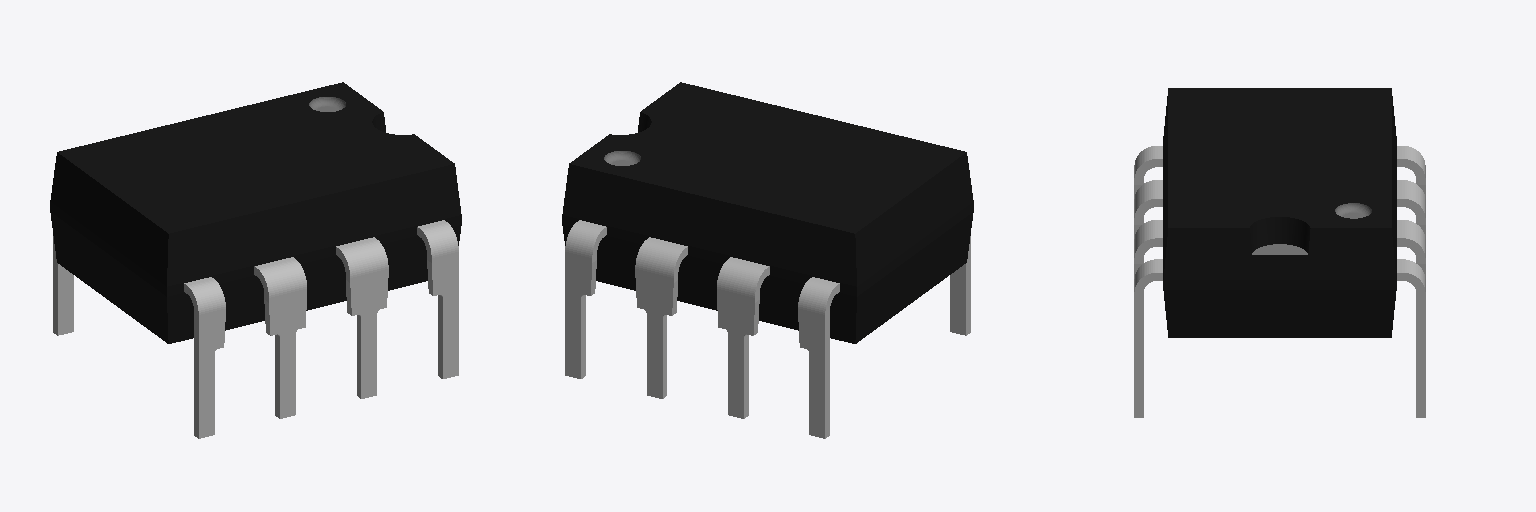
File: DIP8.obj
3 views of the same model, side by side, from view 1: azimuth 30°, elevation 25°; view 2: azimuth 150°, elevation 25°; view 3: azimuth 270°, elevation 25° (orthographic).
Visible parts, largest first — view 1: Solid1; view 2: Solid1; view 3: Solid1.
Boxes of the visible parts, x1=… form: Solid1: x1=50, y1=82, x2=461, y2=438; Solid1: x1=562, y1=82, x2=973, y2=438; Solid1: x1=1134, y1=88, x2=1425, y2=417.
Size of the model in its own units: 9.2 by 5.85 by 7.87.